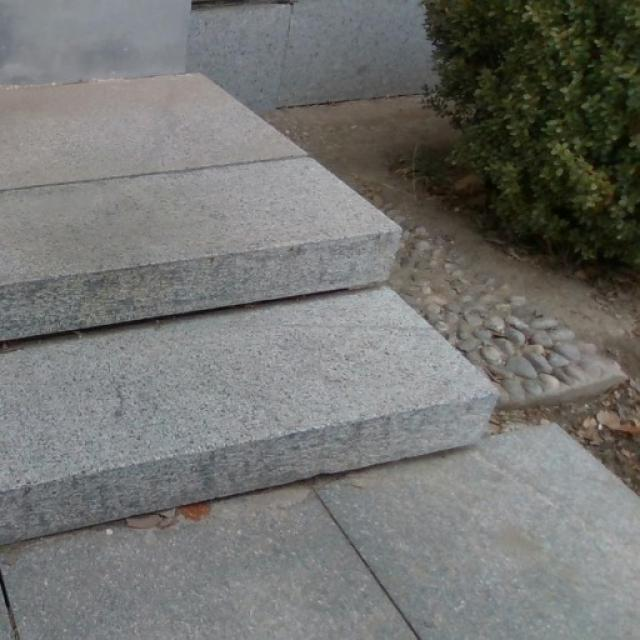Stairs: (0, 69, 502, 550)
